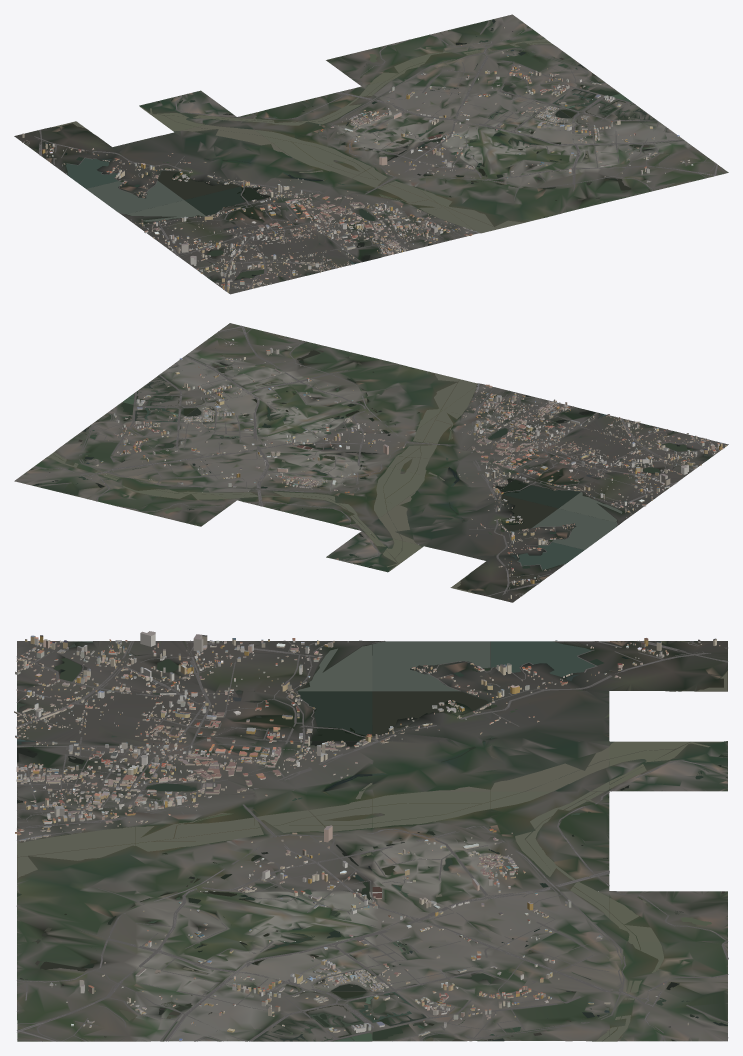
3 renders of one model, top to bottom at view 1: azimuth 30°, elevation 25°; view 2: azimuth 150°, elevation 25°; view 3: azimuth 270°, elevation 25°, orthographic. The views are drawn at different scales.
Parts seen in each view (by area): view 1: ground, water, buildings, roads; view 2: ground, water, buildings, roads; view 3: ground, water, buildings, roads.
Part boxes in pixels (left/top/right/bottom): ground: left=14, top=14, right=728, bottom=294; water: left=52, top=19, right=708, bottom=280; buildings: left=22, top=27, right=693, bottom=292; roads: left=22, top=15, right=726, bottom=291; ground: left=14, top=323, right=728, bottom=602; water: left=30, top=337, right=708, bottom=593; buildings: left=46, top=339, right=726, bottom=599; roads: left=18, top=323, right=724, bottom=600; ground: left=17, top=640, right=727, bottom=1041; water: left=17, top=641, right=727, bottom=1041; buildings: left=14, top=631, right=720, bottom=1041; roads: left=16, top=640, right=728, bottom=1041.
Bounding box in the file's own units: 11239 × 172 × 8459.
